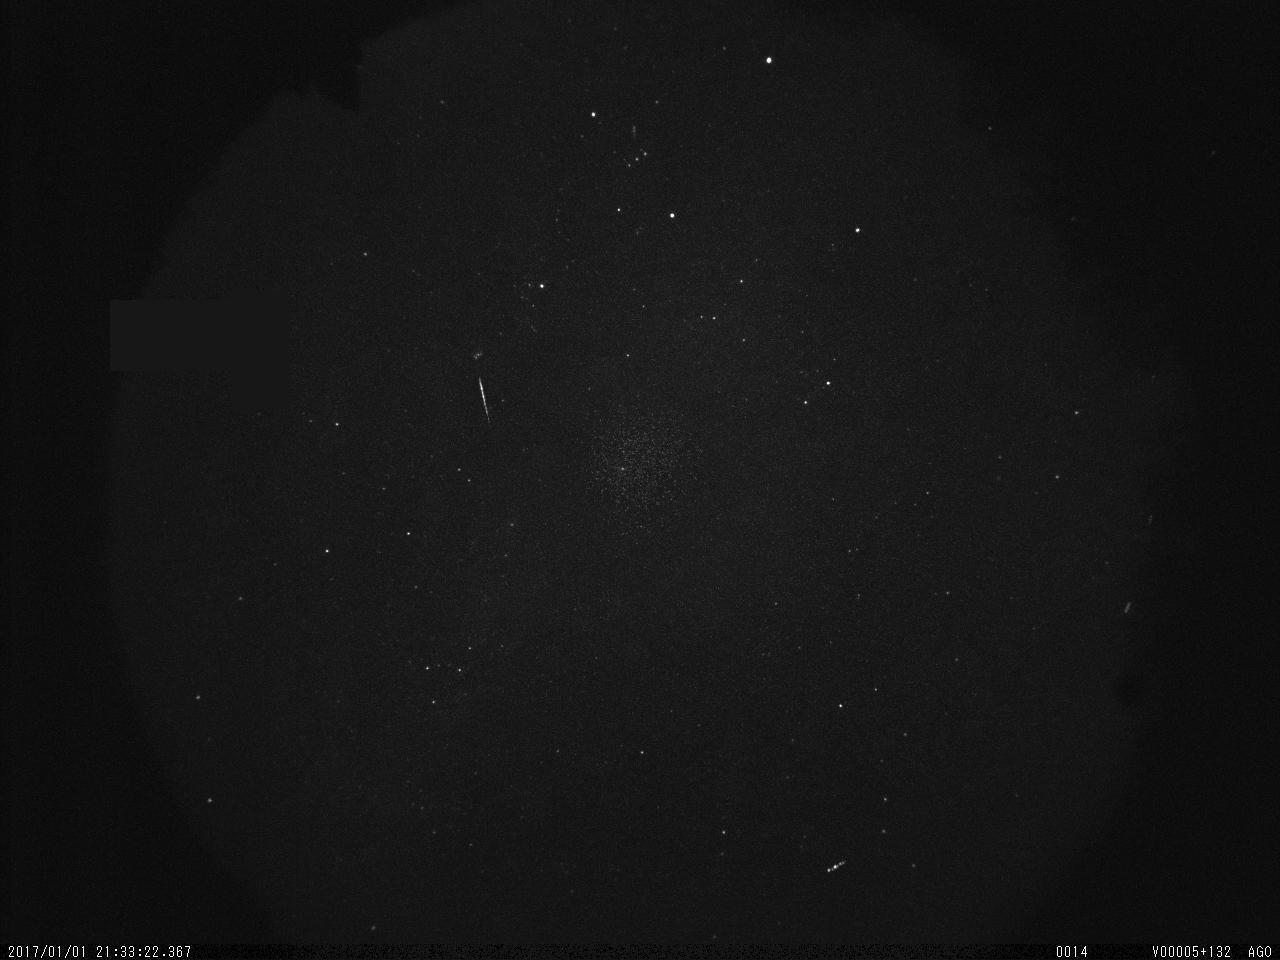Meteor: (473, 374, 494, 432)
